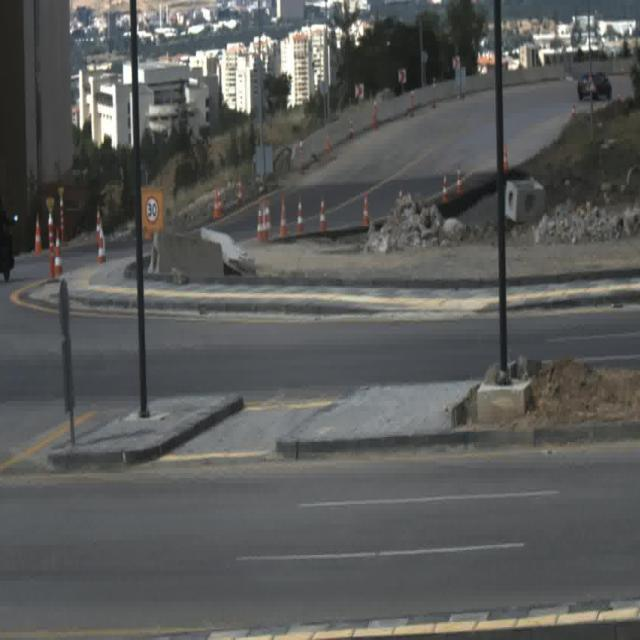Car: (578, 71, 612, 102)
Motorcycle: (0, 200, 19, 276)
